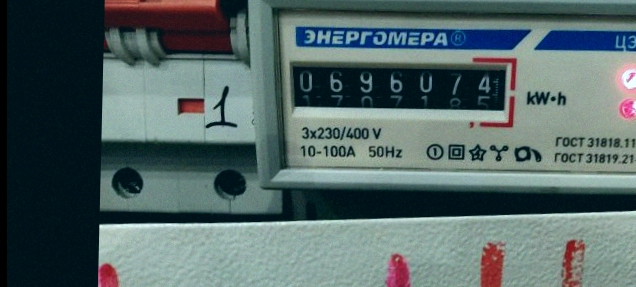0: (296, 67, 315, 91), (418, 68, 434, 93)
4: (476, 69, 492, 91)
5: (476, 94, 493, 109)
6: (389, 67, 406, 93), (328, 68, 345, 92)
7: (448, 69, 465, 95)
9: (358, 67, 374, 94)
screen: (279, 47, 521, 122)
